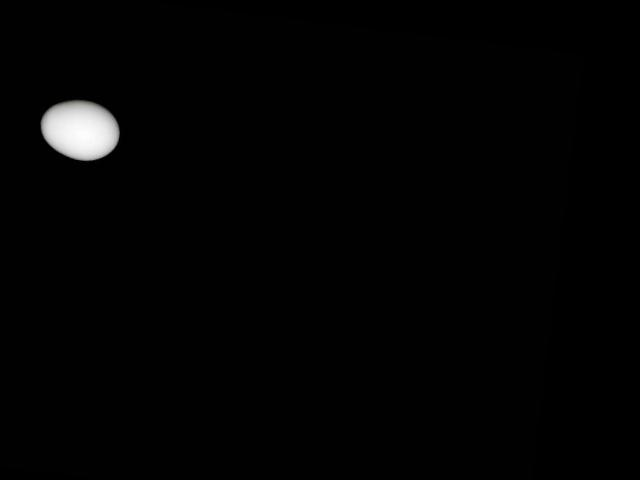egg: (38, 96, 123, 163)
